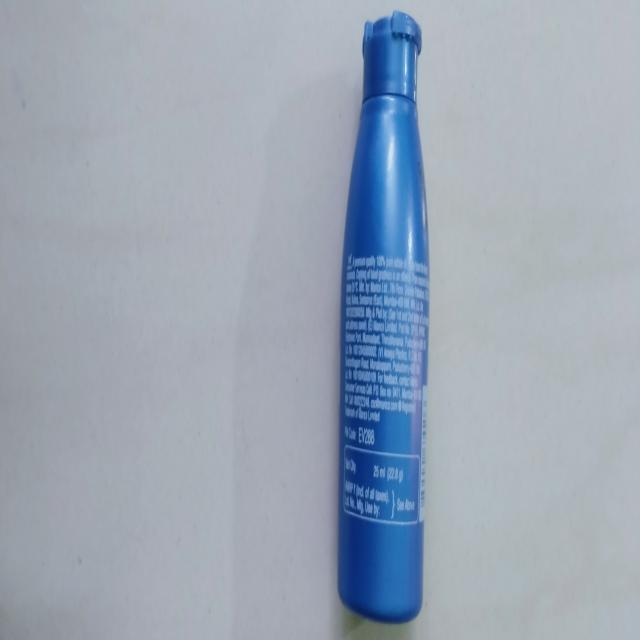oil: (338, 13, 436, 632)
